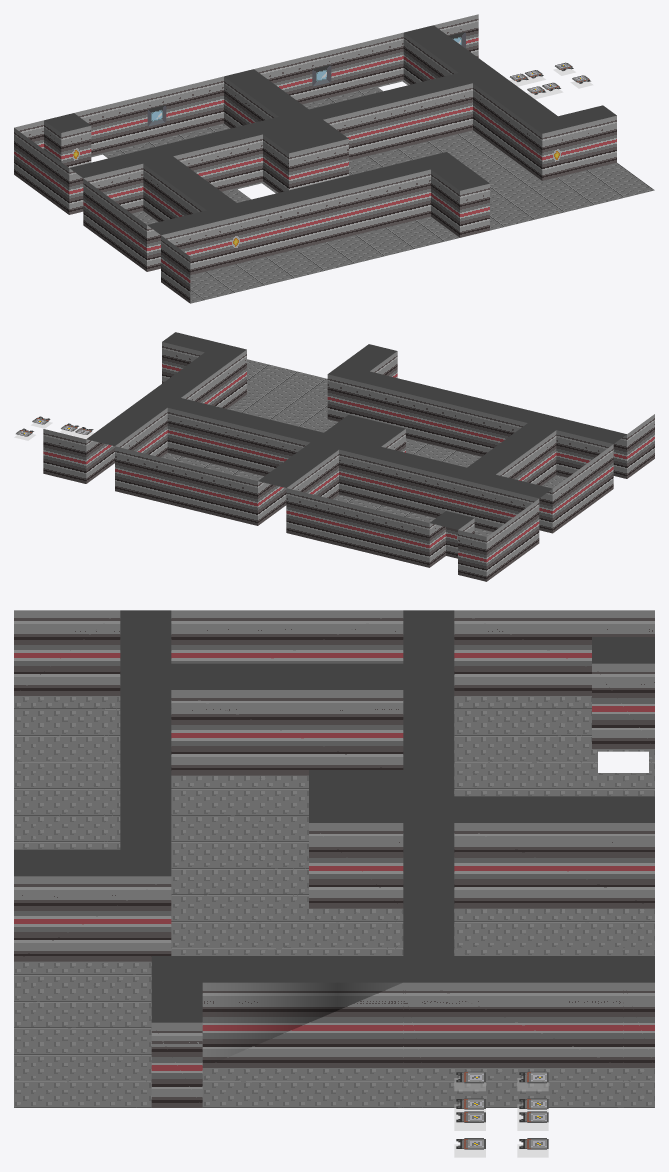
Rendered from GALHQ4-1.obj.
The picture shows the model from 3 angles, top to bottom: view 1: azimuth 30°, elevation 25°; view 2: azimuth 150°, elevation 25°; view 3: azimuth 270°, elevation 25°; orthographic projection. The views are drawn at different scales.
Parts seen in each view (by area): view 1: m_dun2602_00_00c; view 2: m_dun2602_00_00c; view 3: m_dun2602_00_00c.
Boxes of the visible parts, x1=… form: m_dun2602_00_00c: x1=14, y1=14, x2=654, y2=303; m_dun2602_00_00c: x1=14, y1=332, x2=654, y2=581; m_dun2602_00_00c: x1=14, y1=610, x2=654, y2=1157.
Size of the model in its own units: 560 by 48 by 326.
